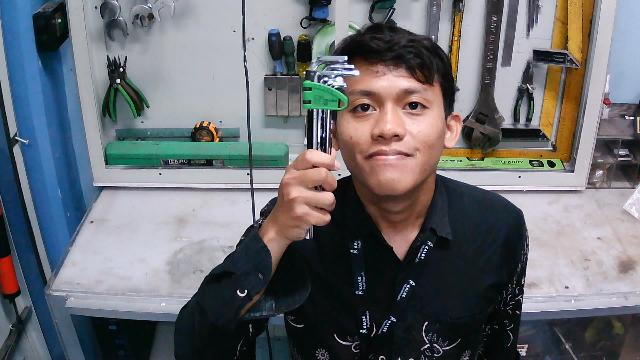kunci_l: (297, 53, 361, 245)
